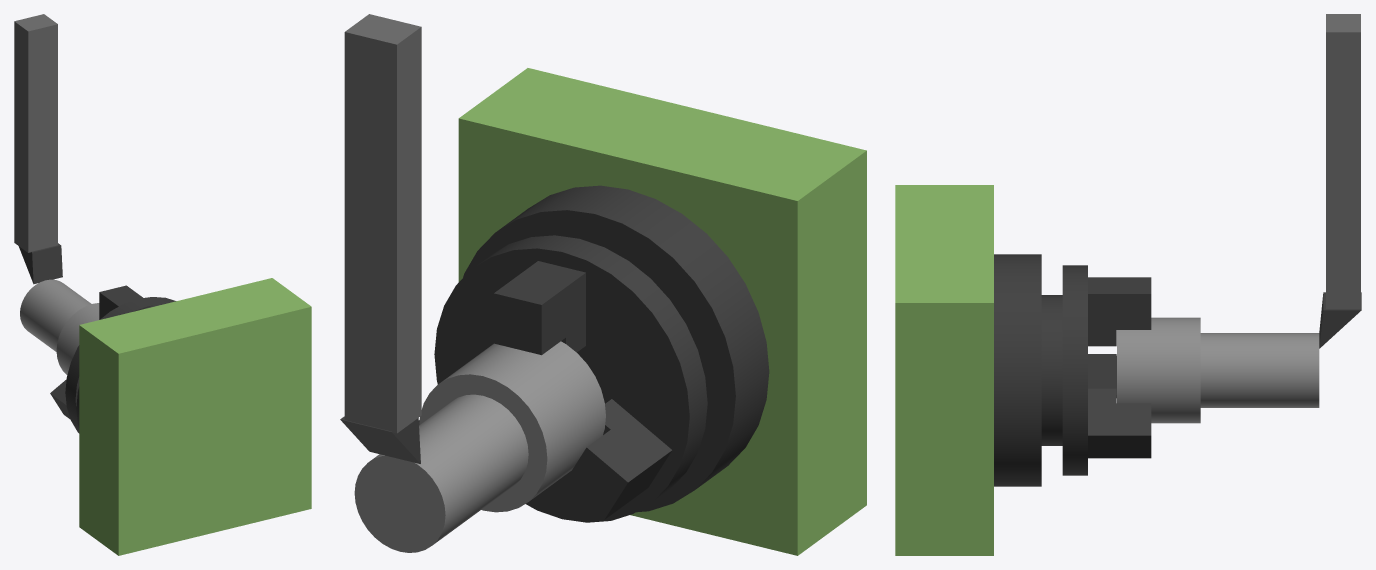
File: tokar_scene_model_1.gltf
3 renders of one model, left to right at view 1: azimuth 30°, elevation 25°; view 2: azimuth 150°, elevation 25°; view 3: azimuth 270°, elevation 25°, orthographic. The views are drawn at different scales.
Visible parts, largest first — view 1: Куб, Куб.005, Цилиндр.001, Цилиндр; view 2: Куб, Цилиндр, Куб.005, Цилиндр.001; view 3: Куб, Цилиндр, Цилиндр.001, Куб.005.
Part boxes in pixels (bbox=[...]): Куб: bbox=[79, 278, 311, 555]; Куб.005: bbox=[14, 14, 62, 284]; Цилиндр.001: bbox=[20, 279, 99, 374]; Цилиндр: bbox=[50, 285, 176, 433]; Куб: bbox=[458, 68, 866, 555]; Цилиндр: bbox=[418, 185, 769, 522]; Куб.005: bbox=[340, 14, 421, 463]; Цилиндр.001: bbox=[354, 341, 605, 552]; Куб: bbox=[895, 185, 993, 555]; Цилиндр: bbox=[994, 254, 1151, 486]; Цилиндр.001: bbox=[1117, 317, 1319, 423]; Куб.005: bbox=[1319, 14, 1361, 348].
Bounding box in the file's own units: 5.28 × 9.89 × 8.82.
